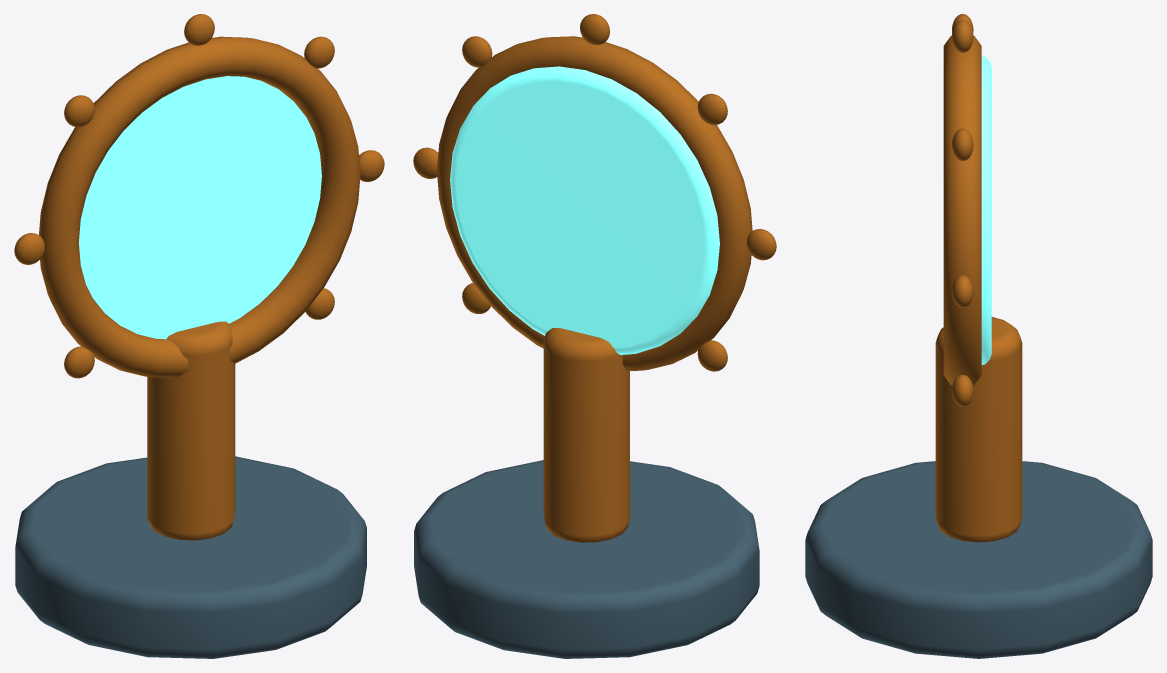
Rendered from mirror_mechanism.glb.
The picture shows the model from 3 angles, left to right: view 1: azimuth 30°, elevation 25°; view 2: azimuth 150°, elevation 25°; view 3: azimuth 270°, elevation 25°; orthographic projection. The views are drawn at different scales.
Parts seen in each view (by area): view 1: mirror_pedestal, mirror_disc, mirror_frame, mirror_column, mirror_star_decoration.002, mirror_star_decoration.003, mirror_star_decoration.004, mirror_star_decoration.005, mirror_star_decoration.001, mirror_star_decoration, mirror_star_decoration.007; view 2: mirror_disc, mirror_pedestal, mirror_frame, mirror_column, mirror_star_decoration.004, mirror_star_decoration.003, mirror_star_decoration.002, mirror_star_decoration.005, mirror_star_decoration.001, mirror_star_decoration, mirror_star_decoration.007; view 3: mirror_pedestal, mirror_column, mirror_frame, mirror_disc, mirror_star_decoration.002, mirror_star_decoration, mirror_star_decoration.001, mirror_star_decoration.007.
Part boxes in pixels (x1,y1,x2,y2): mirror_pedestal: (15, 456, 366, 658); mirror_disc: (79, 76, 321, 339); mirror_frame: (39, 36, 360, 378); mirror_column: (147, 321, 235, 540); mirror_star_decoration.002: (184, 14, 214, 45); mirror_star_decoration.003: (64, 95, 94, 127); mirror_star_decoration.004: (14, 233, 44, 264); mirror_star_decoration.005: (64, 346, 94, 378); mirror_star_decoration.001: (304, 36, 334, 68); mirror_star_decoration: (359, 150, 384, 181); mirror_star_decoration.007: (305, 288, 334, 319); mirror_disc: (450, 66, 719, 354); mirror_pedestal: (414, 460, 759, 658); mirror_frame: (437, 36, 752, 371); mirror_column: (543, 328, 629, 542); mirror_star_decoration.004: (746, 229, 776, 260); mirror_star_decoration.003: (697, 93, 727, 124); mirror_star_decoration.002: (580, 14, 609, 44); mirror_star_decoration.005: (697, 340, 727, 371); mirror_star_decoration.001: (462, 36, 492, 67); mirror_star_decoration: (413, 147, 438, 178); mirror_star_decoration.007: (462, 283, 490, 313); mirror_pedestal: (805, 461, 1152, 658); mirror_column: (935, 317, 1022, 542); mirror_frame: (943, 35, 981, 385); mirror_disc: (981, 56, 991, 364); mirror_star_decoration.002: (952, 20, 973, 52); mirror_star_decoration: (952, 275, 973, 307); mirror_star_decoration.001: (952, 128, 973, 160); mirror_star_decoration.007: (952, 375, 973, 406).
Size of the model in its own units: 1.15 by 1.74 by 0.96.
